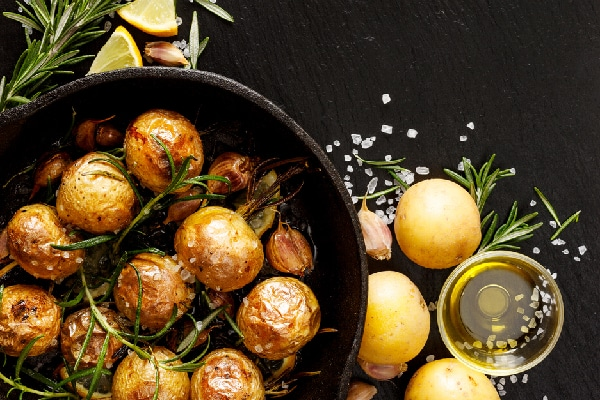boiled potatoes: (400, 181, 475, 266), (360, 276, 431, 362), (181, 210, 258, 289), (115, 258, 194, 327), (128, 109, 202, 182), (64, 158, 137, 232), (241, 278, 318, 348), (8, 209, 79, 274), (407, 354, 497, 400), (62, 314, 128, 375), (1, 289, 64, 351), (123, 349, 187, 400), (200, 356, 269, 400)
